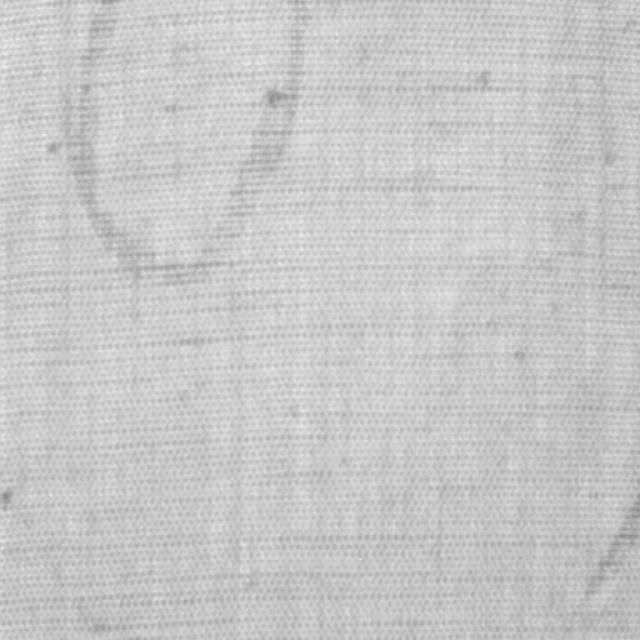oil spot: (70, 0, 308, 290), (577, 492, 639, 608)
